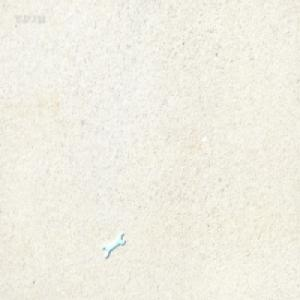Wrench: (102, 228, 125, 257)
